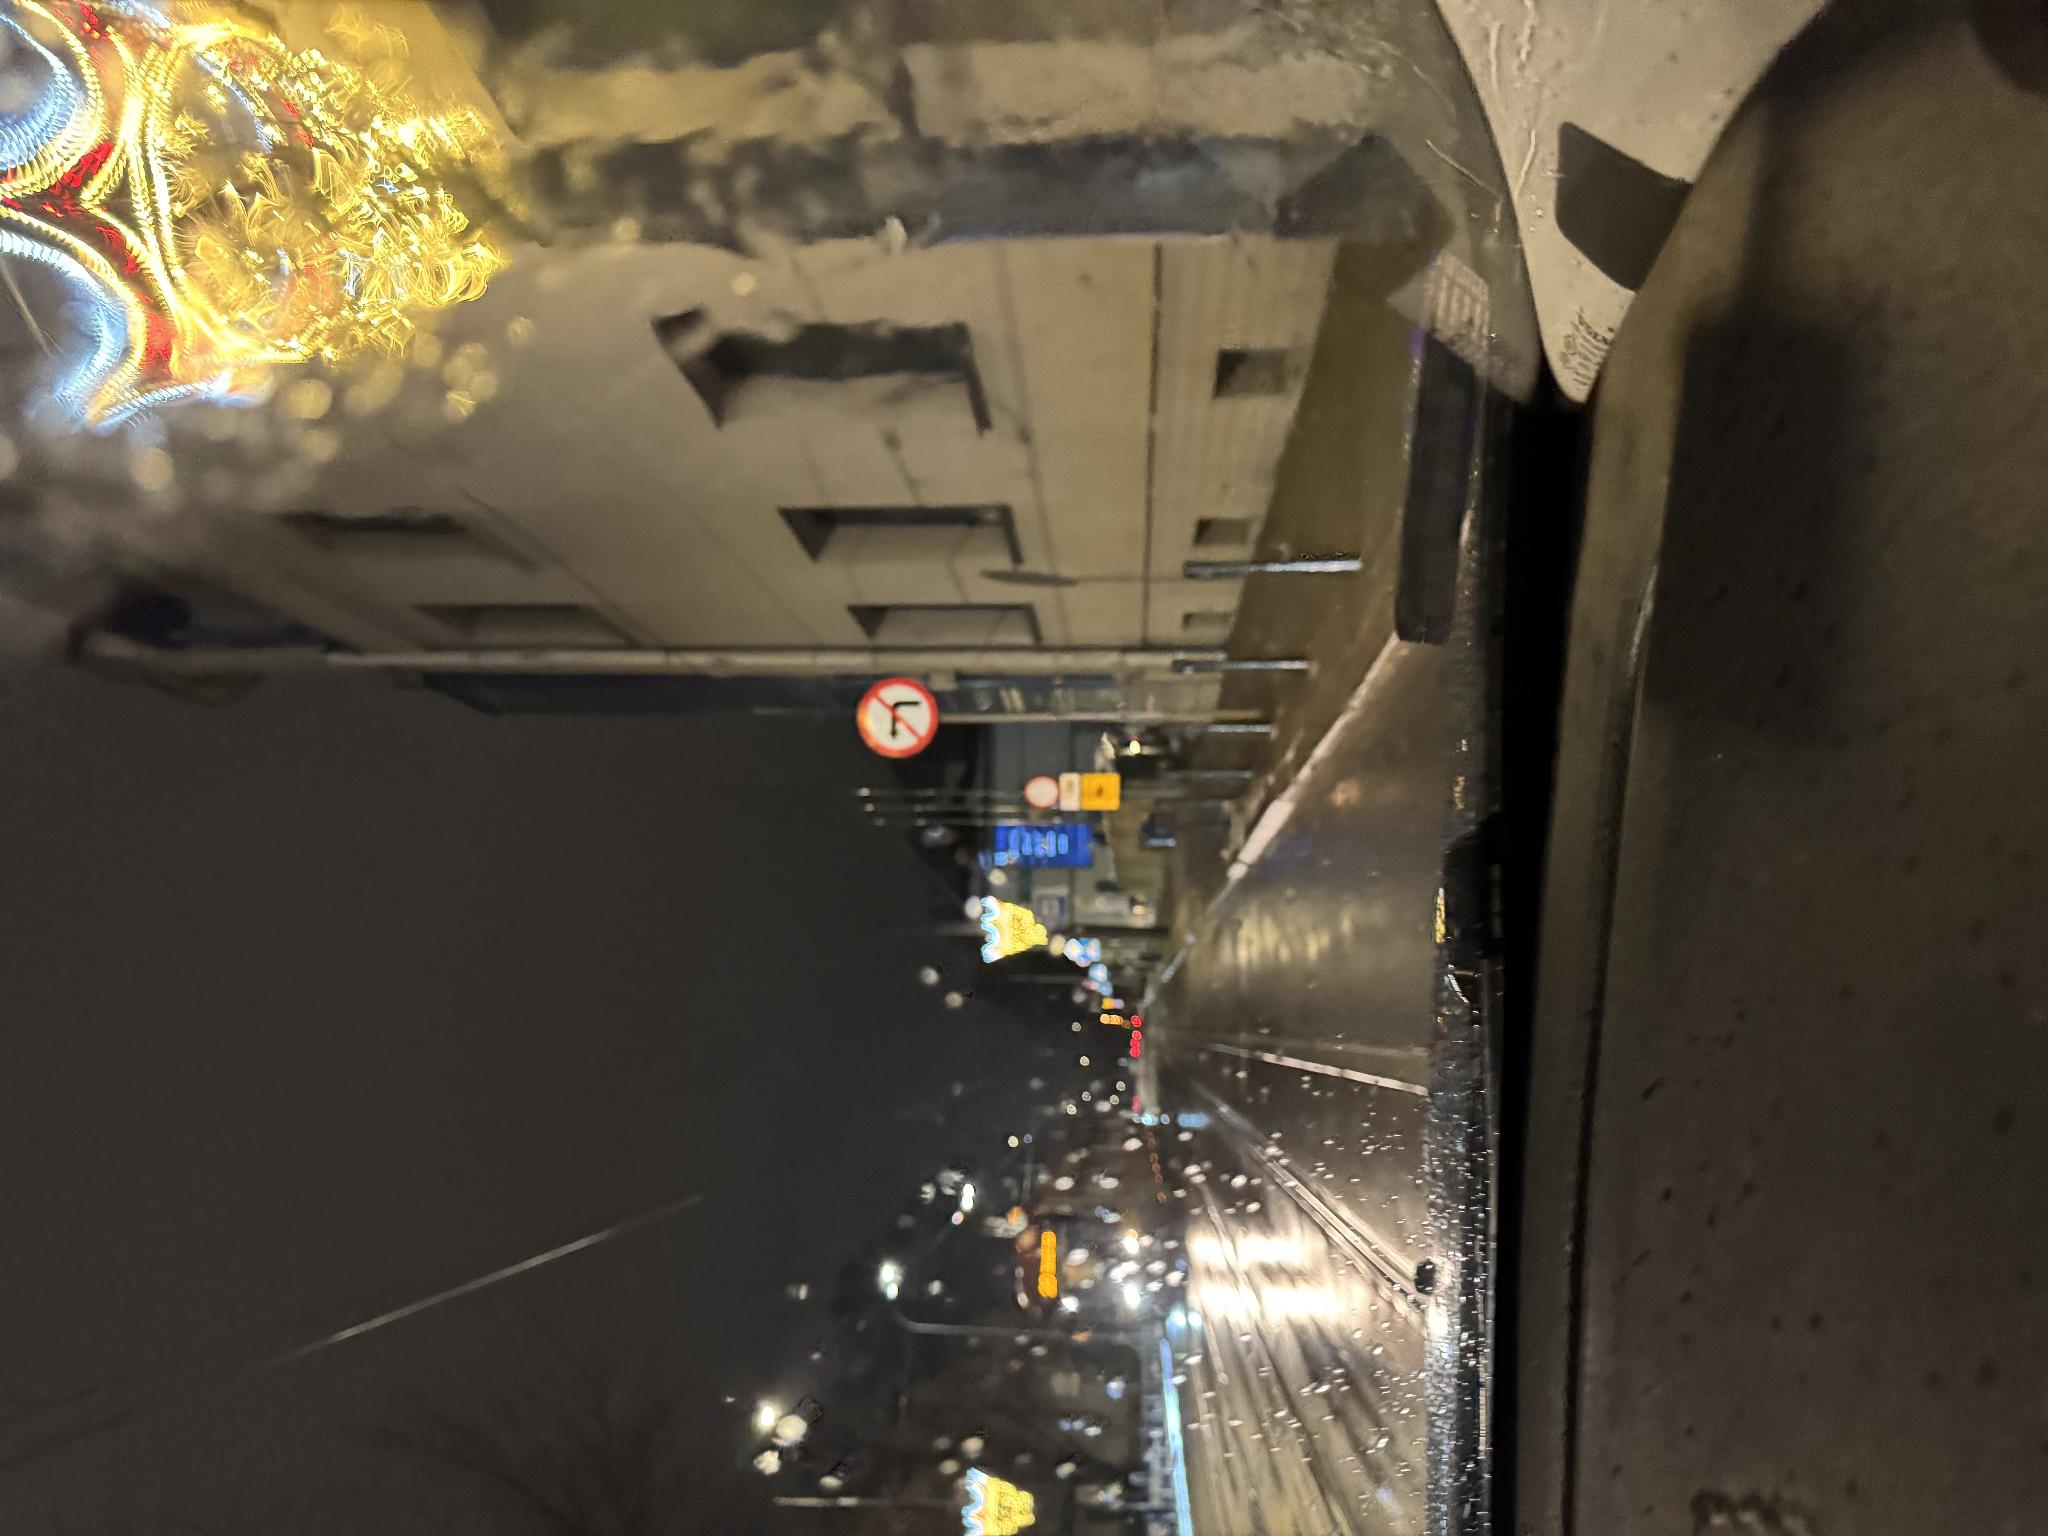prohibitory: (778, 855, 860, 941), (724, 1023, 764, 1060)
